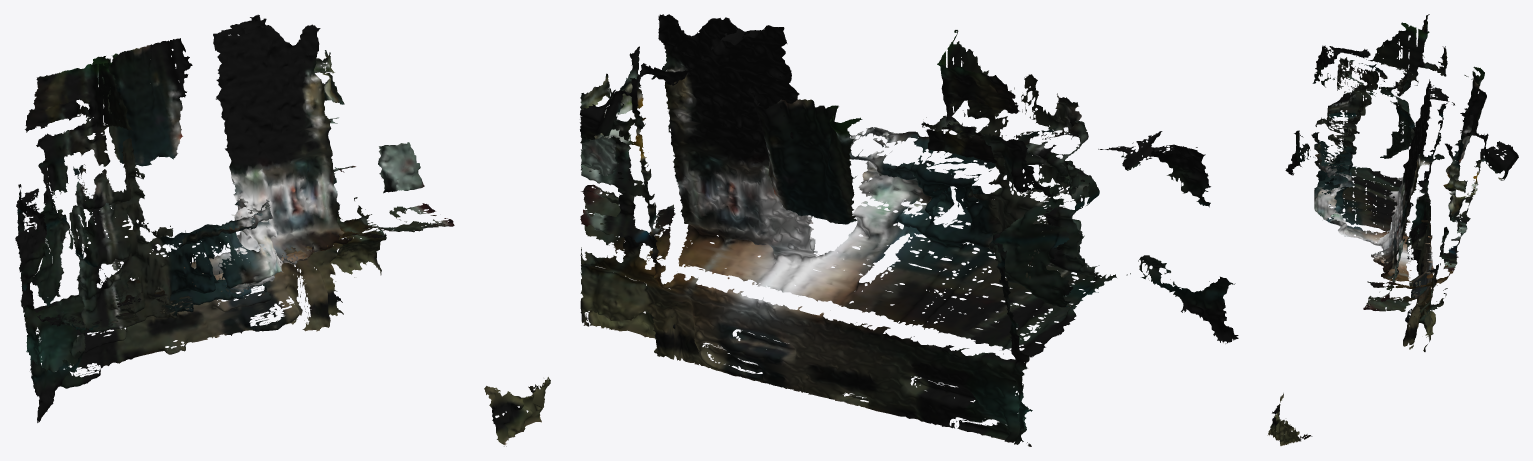
File: color_model_f003_20251226_162836.obj
3 renders of one model, left to right at view 1: azimuth 30°, elevation 25°; view 2: azimuth 150°, elevation 25°; view 3: azimuth 270°, elevation 25°, orthographic. The views are drawn at different scales.
Size of the model in its own units: 3.69 by 2.68 by 2.05.
